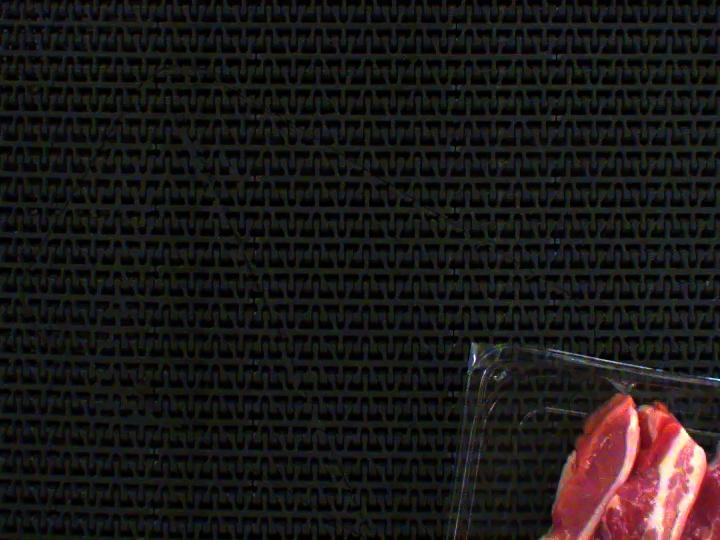packaging-error: (606, 367, 642, 401)
